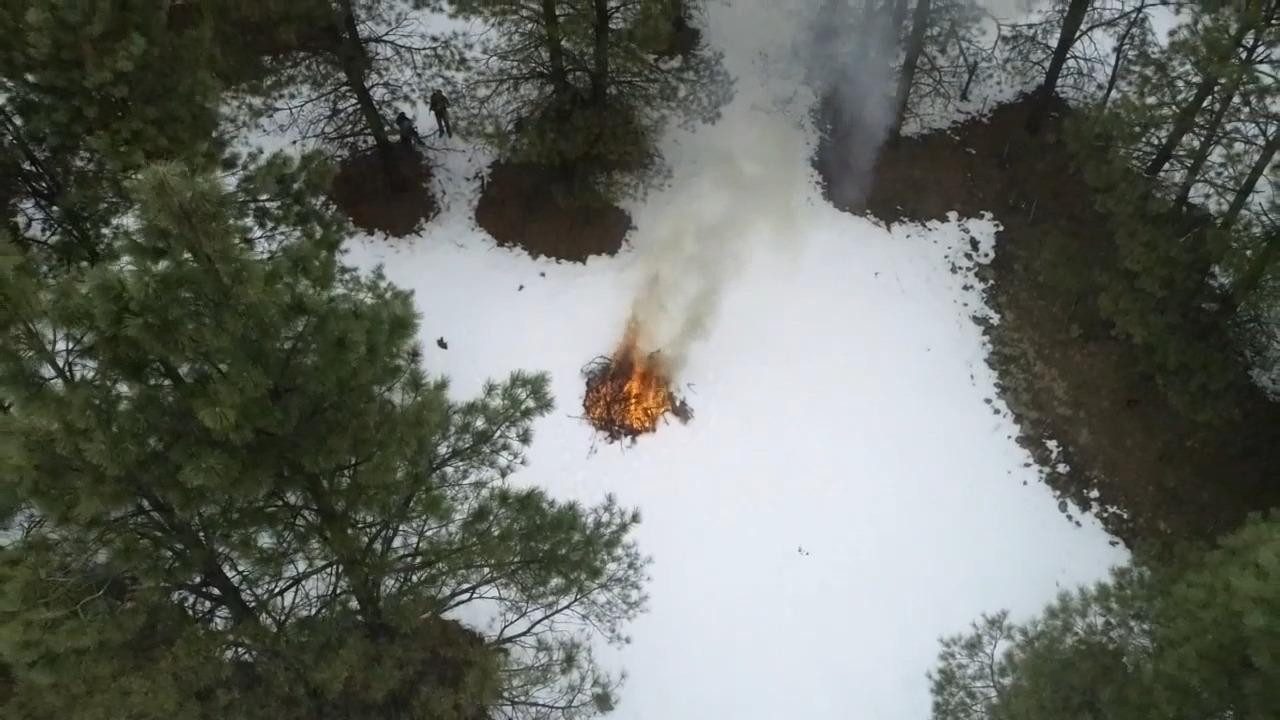fire: (575, 303, 684, 428)
